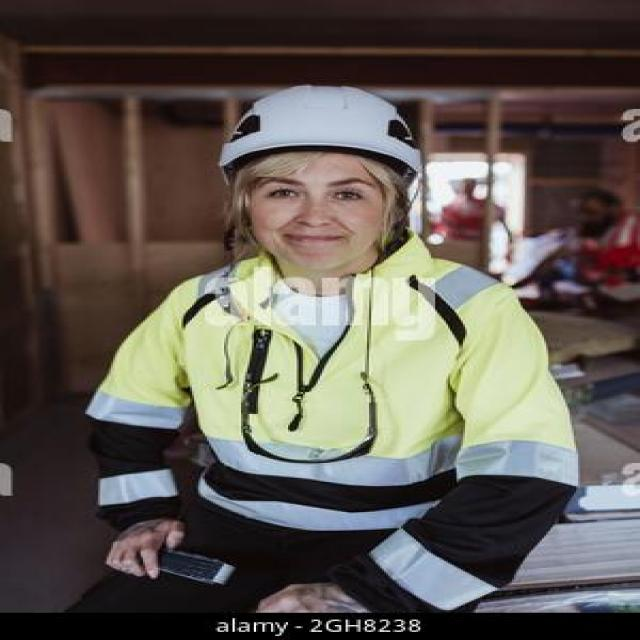Reflective-Jacket: (139, 252, 574, 496)
Safety-Helmet: (209, 79, 435, 180)
